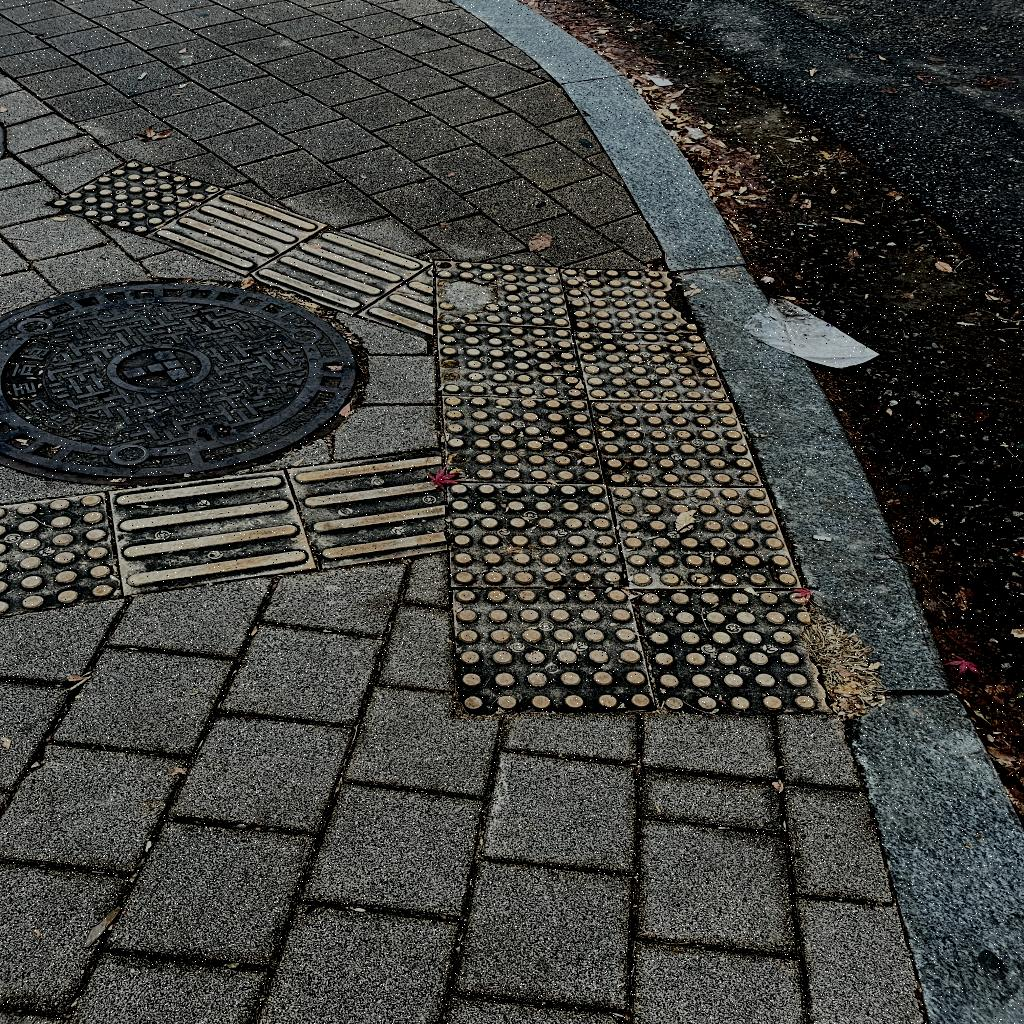Stop block broken: (432, 261, 574, 330), (559, 269, 701, 332)
Stop block normal: (454, 583, 655, 716), (611, 488, 800, 587), (449, 483, 623, 586), (441, 397, 607, 483), (591, 403, 761, 485), (435, 324, 590, 402), (572, 331, 730, 403)
Straight block normal: (108, 466, 315, 594), (146, 170, 326, 294), (251, 209, 429, 332)
